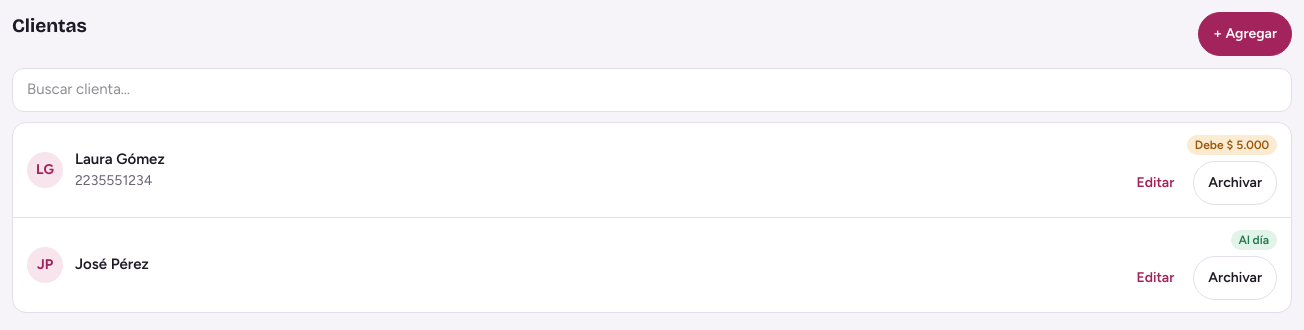
CustomersView › el buscador filtra sin distinguir mayúsculas ni acentos
The image size is (1304, 330).
Type "JOSE" into the search field with placeholder "Buscar clienta…" at x=652, y=90, box [12,68,1292,112]
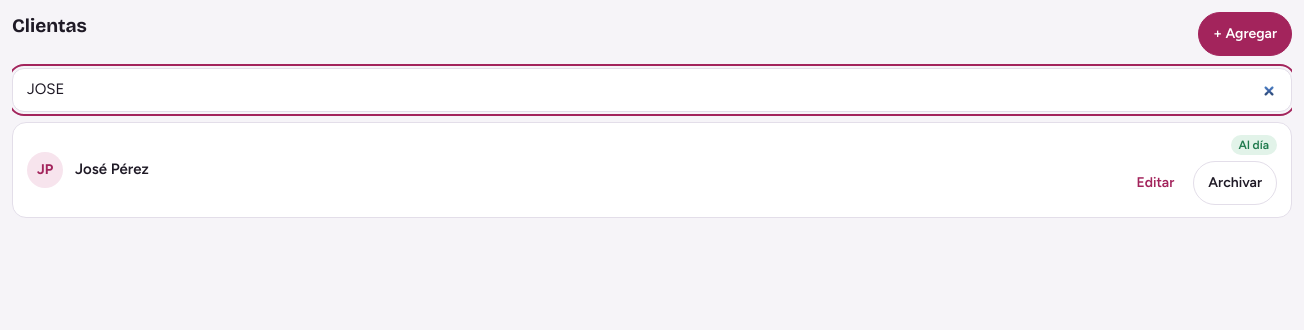
expect the text "José Pérez" is shown: met, box [75,160,149,178]
expect the text "Laura Gómez" is gone: met
